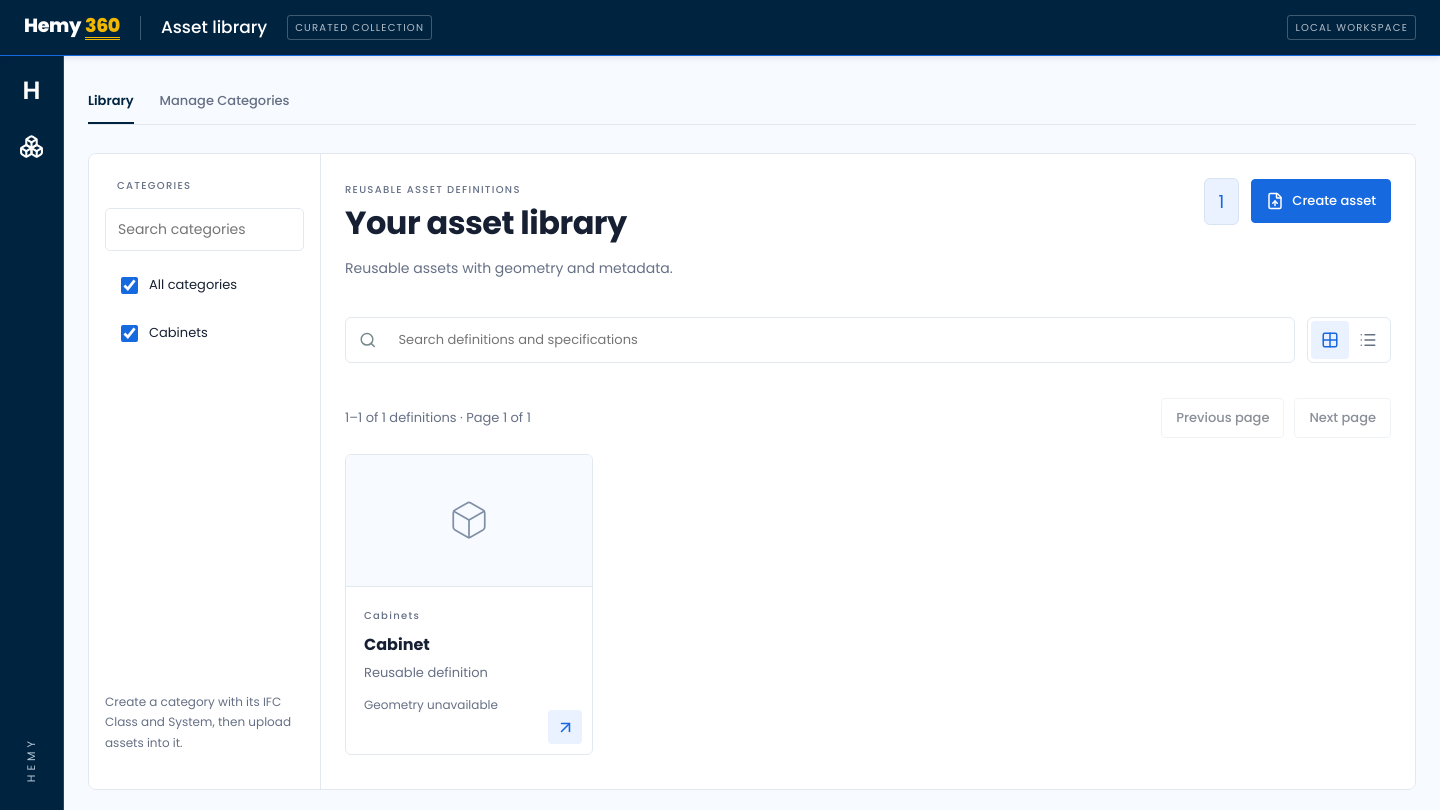
Test: curated catalog › shows a rejected category save inside its details pop-up and preserves edits
The width and height of the screenshot is (1440, 810).
Step 1. Click the button "Manage Categories" → (225, 100), box [160,76,290,124]
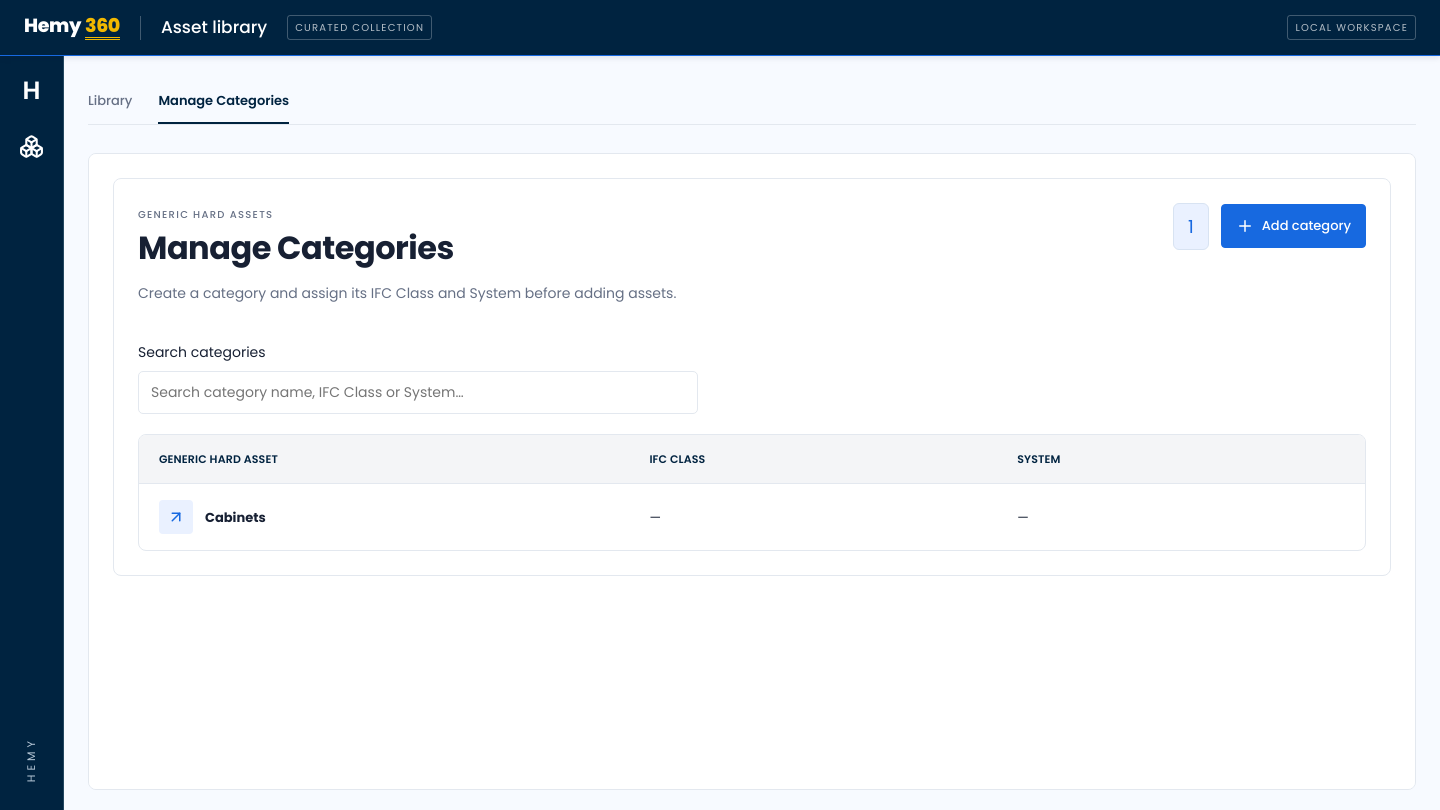
Step 2. Click the button named "Open Cabinets category" → (176, 517), box [159,500,193,534]
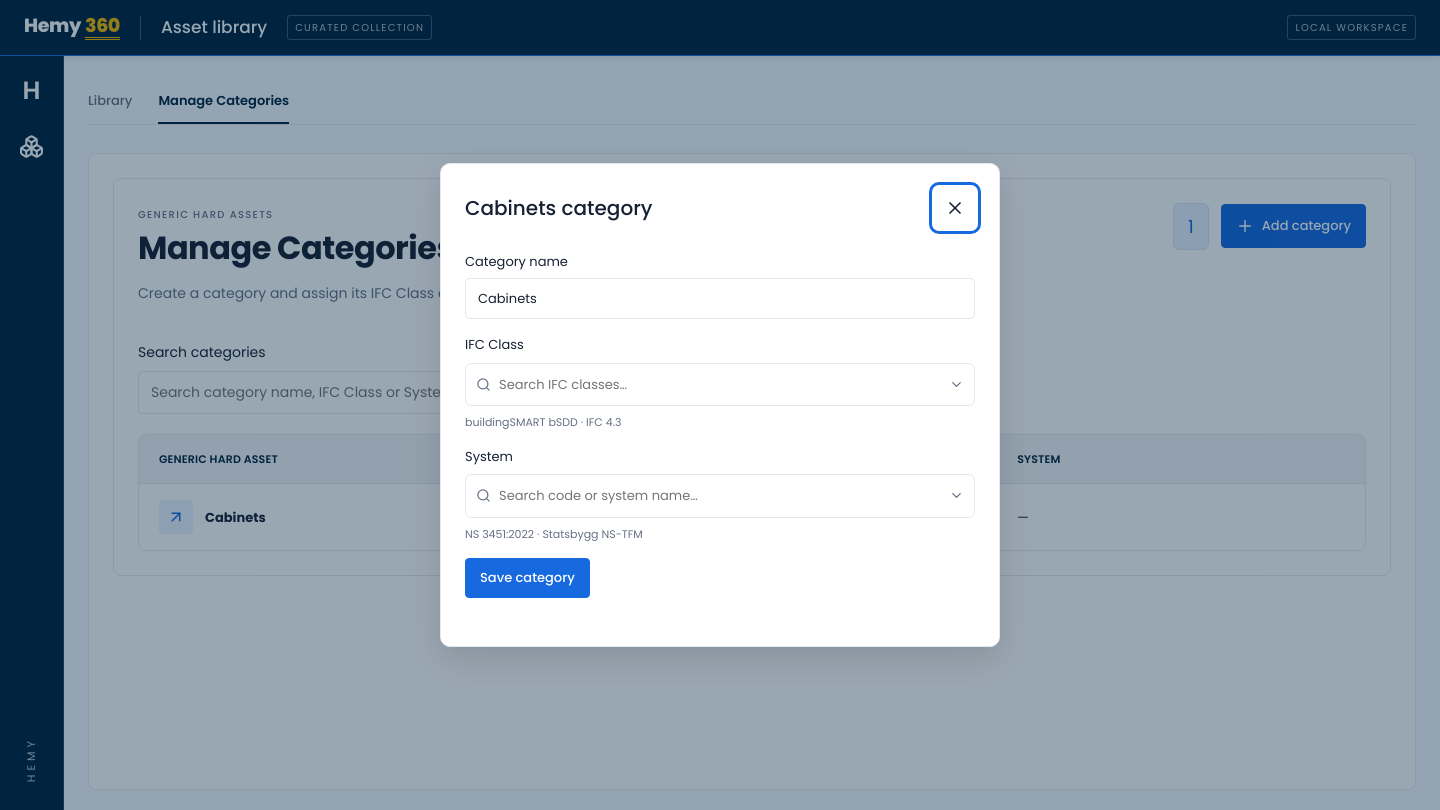
Step 3. Replace the text in the field labelled "Category name" with "Changed name" → (720, 298), box [465,278,975,319]
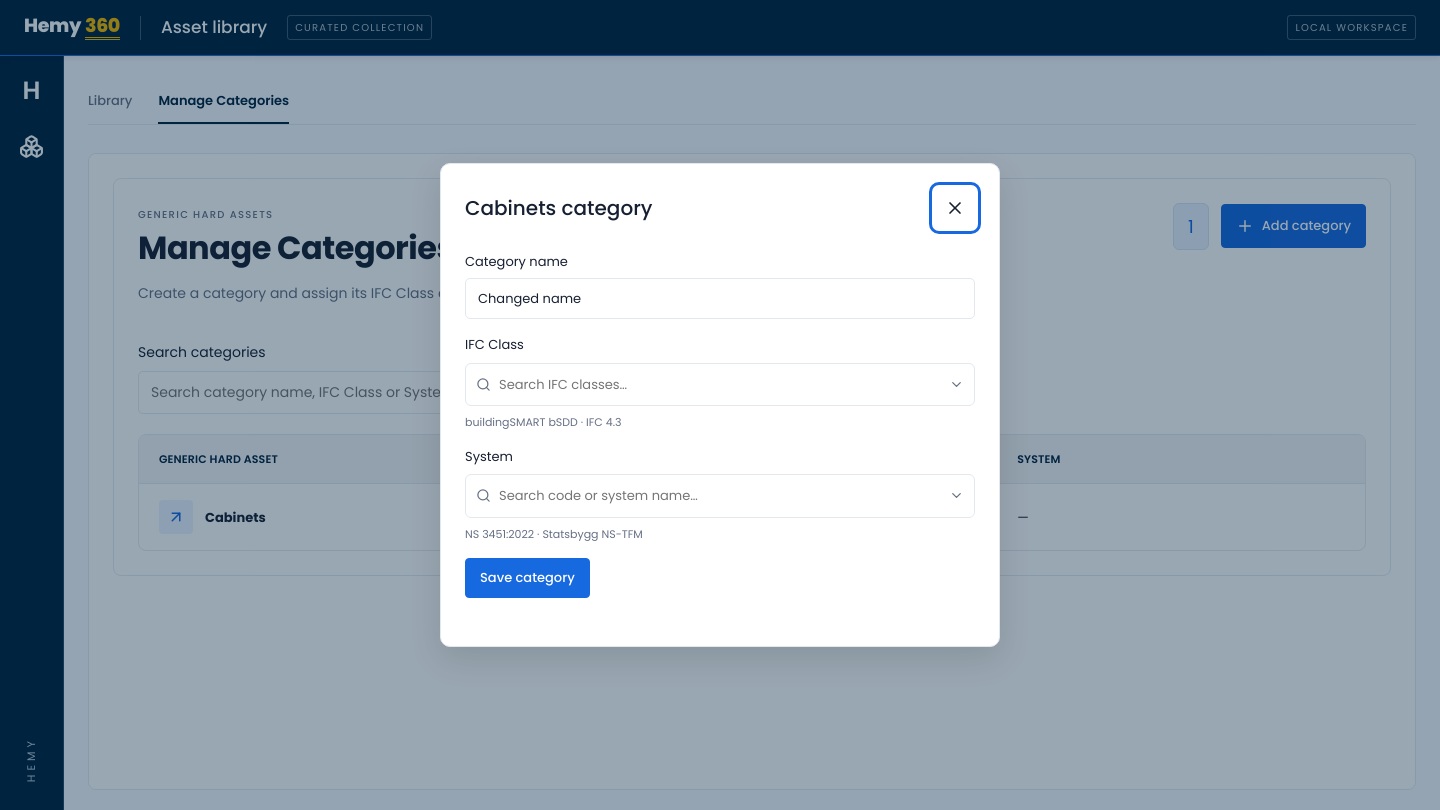
Step 4. Click the button "Save category" → (527, 578), box [465,558,590,598]
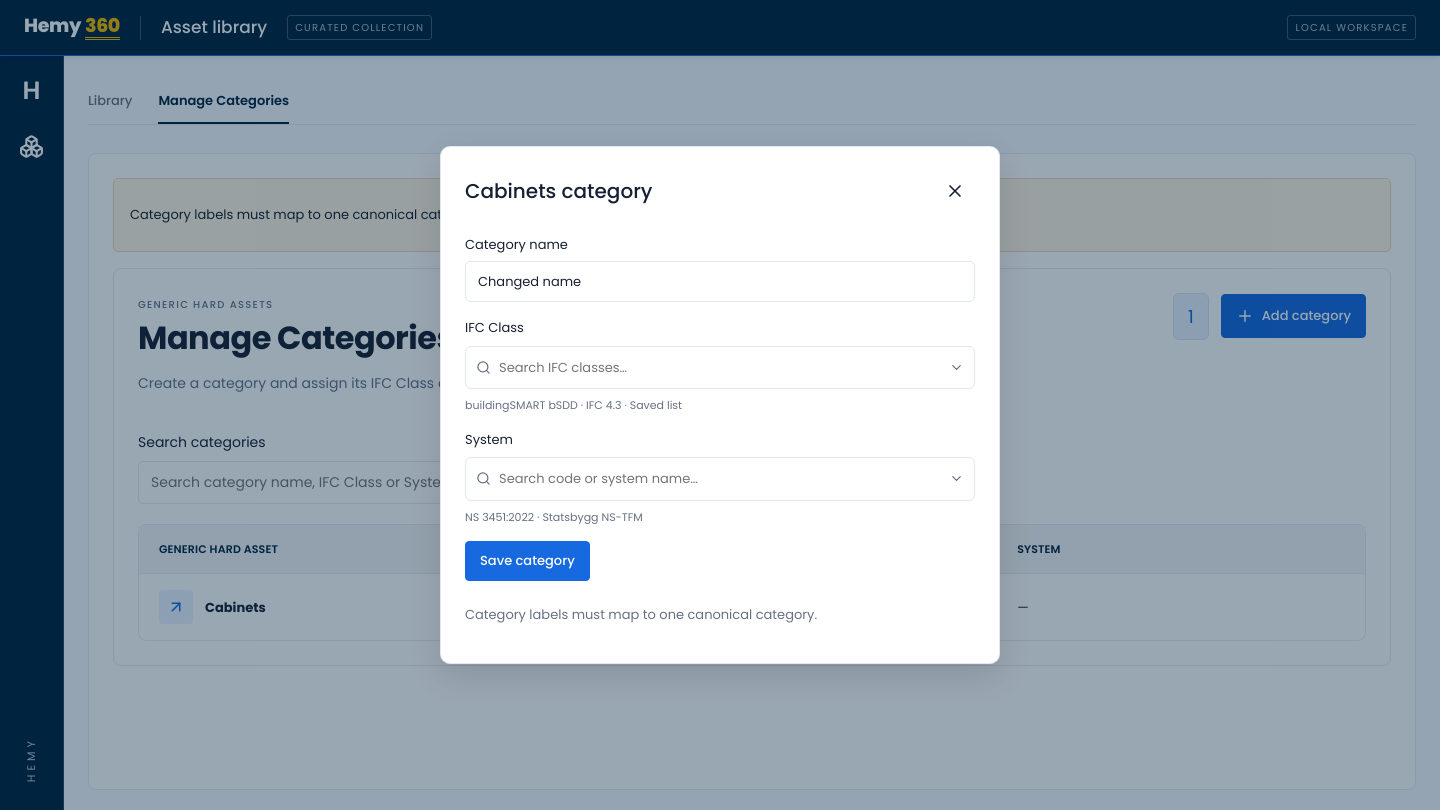
Expected: the message "Category labels must map to one canonical category." is shown, [465,605,817,624]
